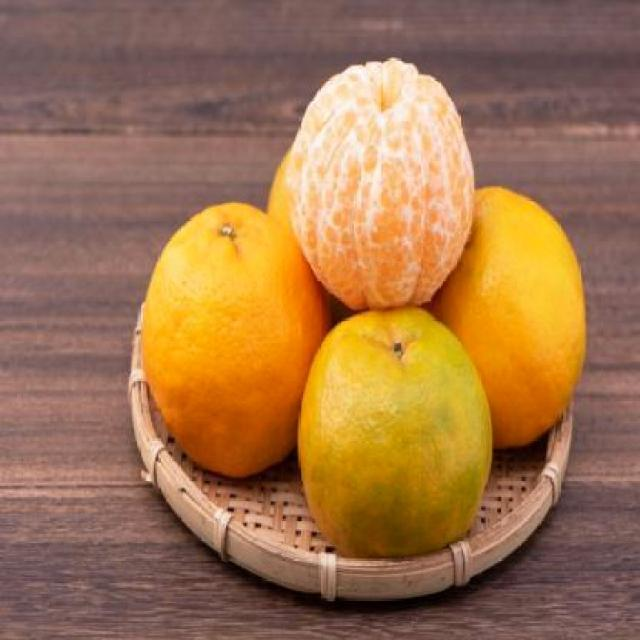Jeruk Sudah Matang: (140, 201, 336, 487), (402, 170, 588, 447), (302, 306, 496, 556)
